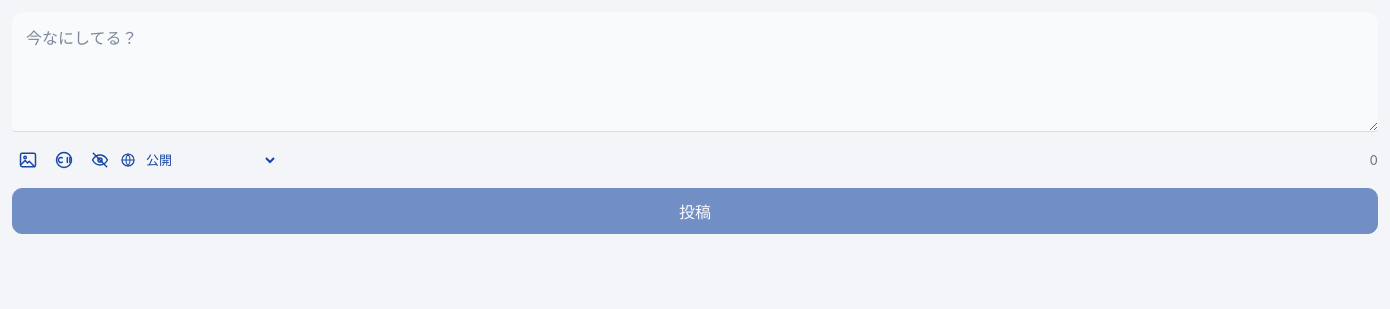
Scenario: localizes the unknown post outcome warning in ja
In the text box named "投稿内容": [695, 72] box [12,12,1378,132], type "Outcome unknown"
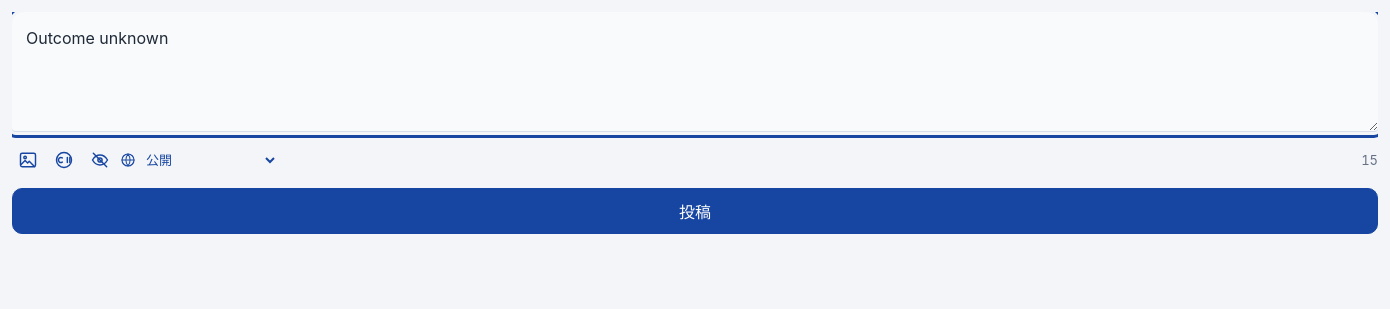
Click the button "投稿": [695, 211] box [12,188,1378,234]
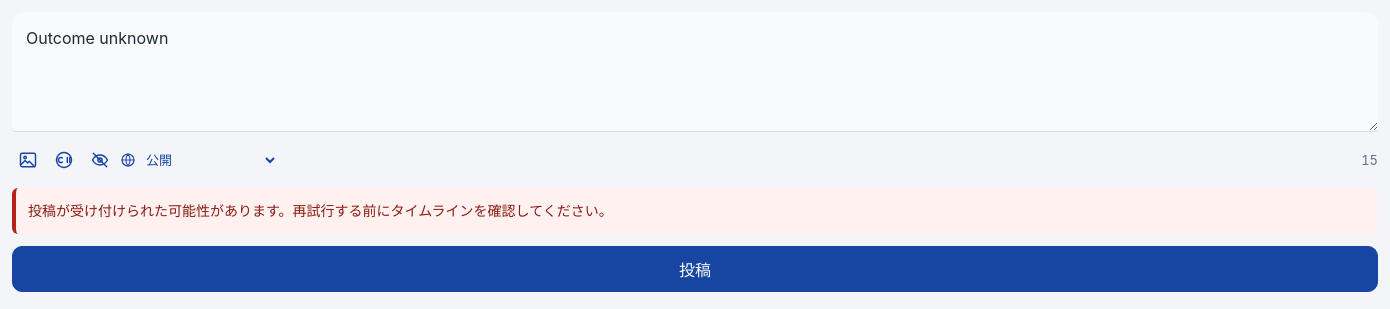
Now the message reads "投稿が受け付けられた可能性があります。再試行する前にタイムラインを確認してください。", box [28,202,613,219]
